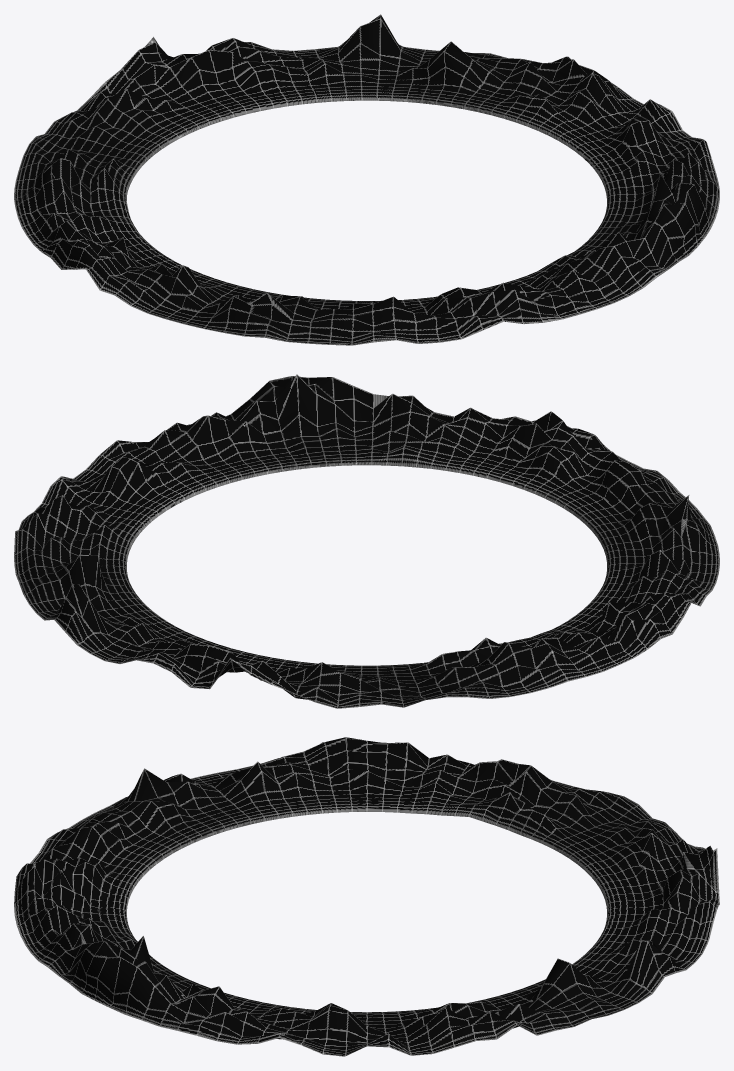
Rendered from map_terrain.fbx.
3 renders of one model, top to bottom at view 1: azimuth 30°, elevation 25°; view 2: azimuth 150°, elevation 25°; view 3: azimuth 270°, elevation 25°, orthographic.
Visible parts, largest first — view 1: Torus001; view 2: Torus001; view 3: Torus001.
Boxes of the visible parts, x1=… form: Torus001: x1=14, y1=14, x2=719, y2=345; Torus001: x1=14, y1=374, x2=719, y2=708; Torus001: x1=14, y1=737, x2=719, y2=1056.
Bounding box in the file's own units: 189 × 19.7 × 189.
